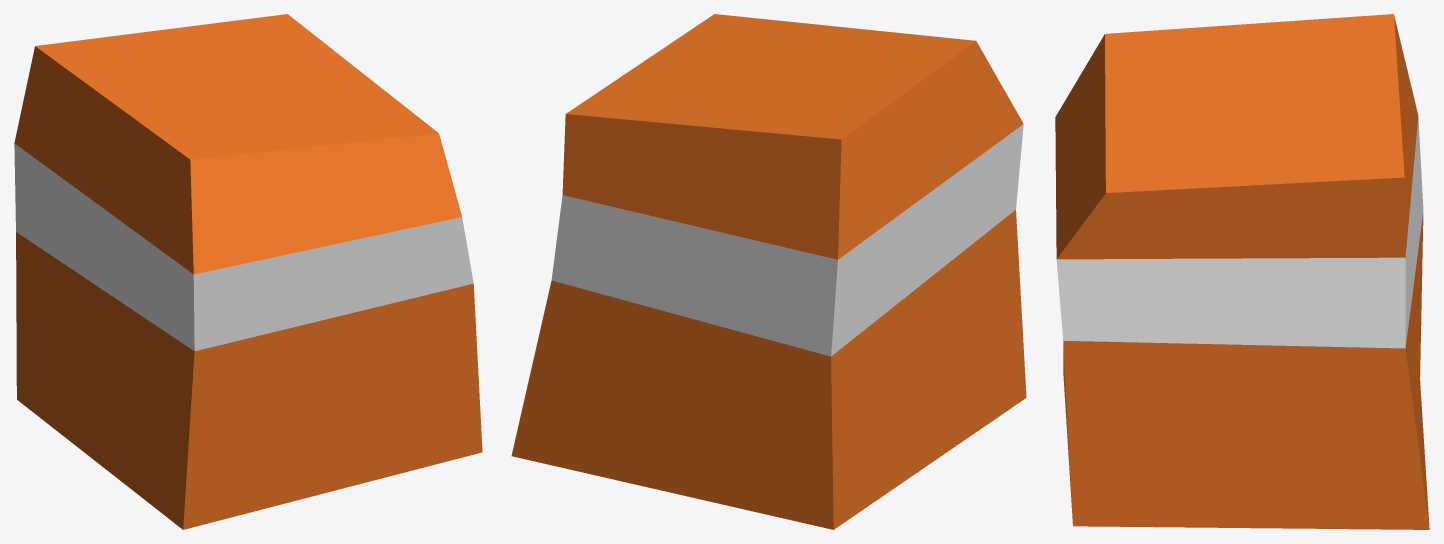
Rendered from DesertRock05.glb.
3 renders of one model, left to right at view 1: azimuth 30°, elevation 25°; view 2: azimuth 150°, elevation 25°; view 3: azimuth 270°, elevation 25°, orthographic. The views are drawn at different scales.
Parts seen in each view (by area): view 1: DesertRock05; view 2: DesertRock05; view 3: DesertRock05.
Boxes of the visible parts, x1=… form: DesertRock05: x1=14, y1=14, x2=482, y2=529; DesertRock05: x1=511, y1=14, x2=1026, y2=529; DesertRock05: x1=1055, y1=14, x2=1429, y2=529.
Size of the model in its own units: 2 by 2.22 by 2.04.
1 material, 1 textured.
